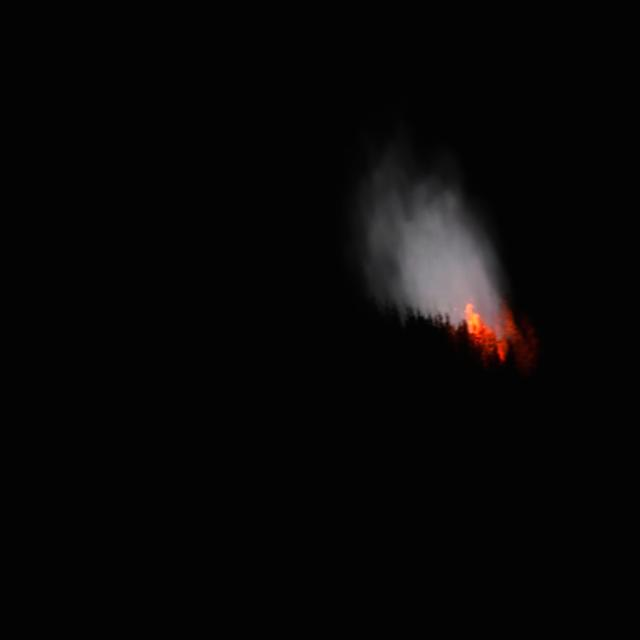fire: (457, 301, 486, 337)
smoke: (324, 102, 521, 374)
